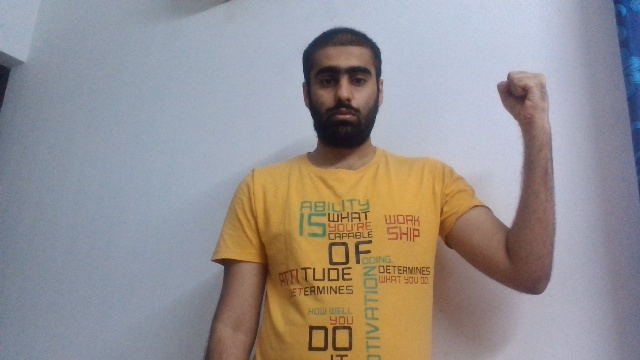rock: (496, 69, 551, 126)
